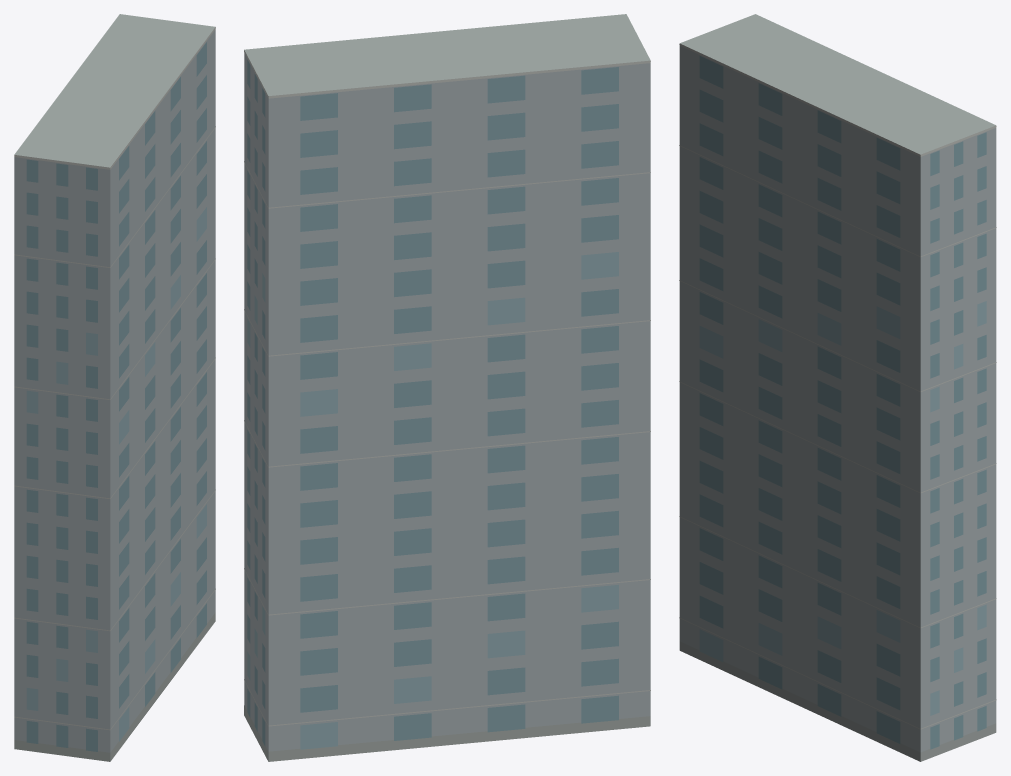
The model's file is residential-8988bac1-5930-489b-aa44-a4691a65f325.glb.
The picture shows the model from 3 angles, left to right: view 1: azimuth 30°, elevation 25°; view 2: azimuth 150°, elevation 25°; view 3: azimuth 270°, elevation 25°; orthographic projection. The views are drawn at different scales.
Visible parts, largest first — view 1: residential-8988bac1-5930-489b-aa44-a4691a65f325.tmp; view 2: residential-8988bac1-5930-489b-aa44-a4691a65f325.tmp; view 3: residential-8988bac1-5930-489b-aa44-a4691a65f325.tmp.
Part boxes in pixels (left/top/right/bottom): residential-8988bac1-5930-489b-aa44-a4691a65f325.tmp: left=14, top=14, right=215, bottom=761; residential-8988bac1-5930-489b-aa44-a4691a65f325.tmp: left=244, top=14, right=650, bottom=761; residential-8988bac1-5930-489b-aa44-a4691a65f325.tmp: left=679, top=14, right=996, bottom=761.
Bounding box in the file's own units: 32.32 × 65 × 30.76.
